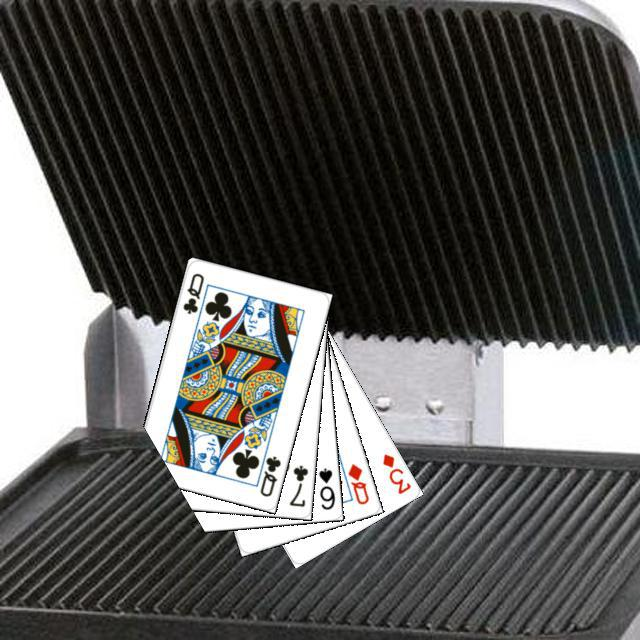3d: (377, 449, 413, 496)
6s: (314, 463, 336, 511)
7c: (284, 460, 309, 508)
Qc: (249, 444, 282, 498), (178, 268, 206, 316)
Qd: (343, 459, 371, 506)
